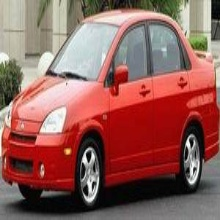no damage: (1, 7, 220, 209)
